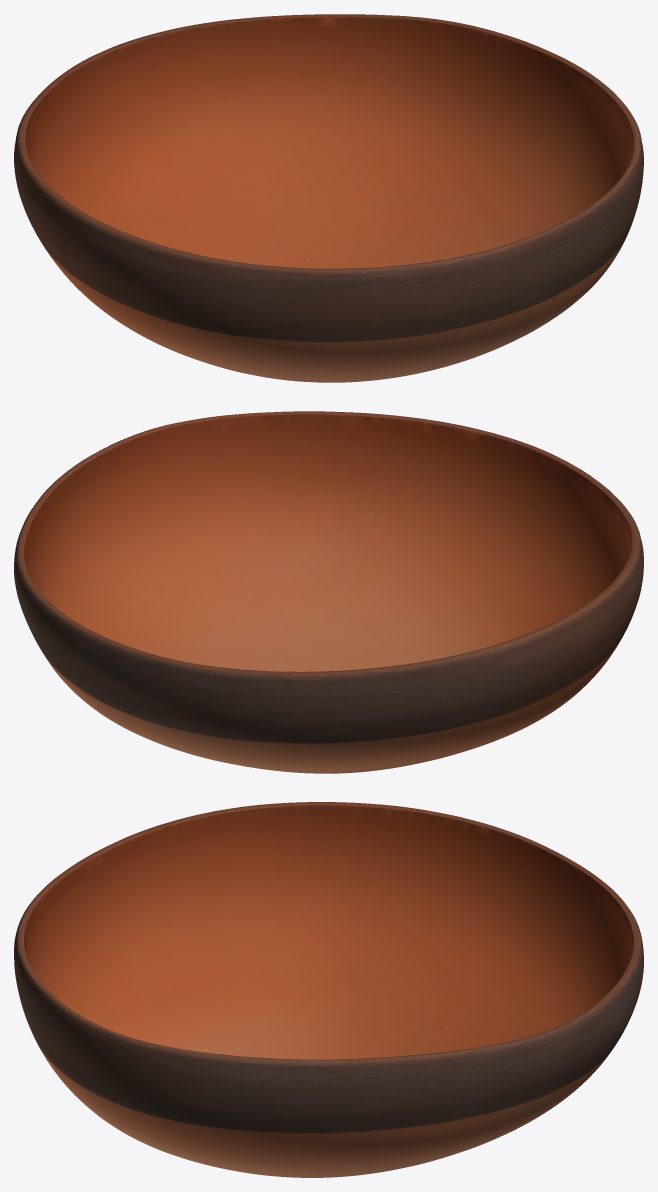
File: kuandaiwencaitaoboB.glb
3 views of the same model, one above another, from view 1: azimuth 30°, elevation 25°; view 2: azimuth 150°, elevation 25°; view 3: azimuth 270°, elevation 25° (orthographic).
Parts seen in each view (by area): view 1: node_0; view 2: node_0; view 3: node_0.
Boxes of the visible parts, x1,y1,x2,y2 form: node_0: (14,14,643,382); node_0: (14,411,643,773); node_0: (14,802,643,1177).
Bounding box in the file's own units: 1.11 × 0.4092 × 1.12.
1 material, 1 textured.
